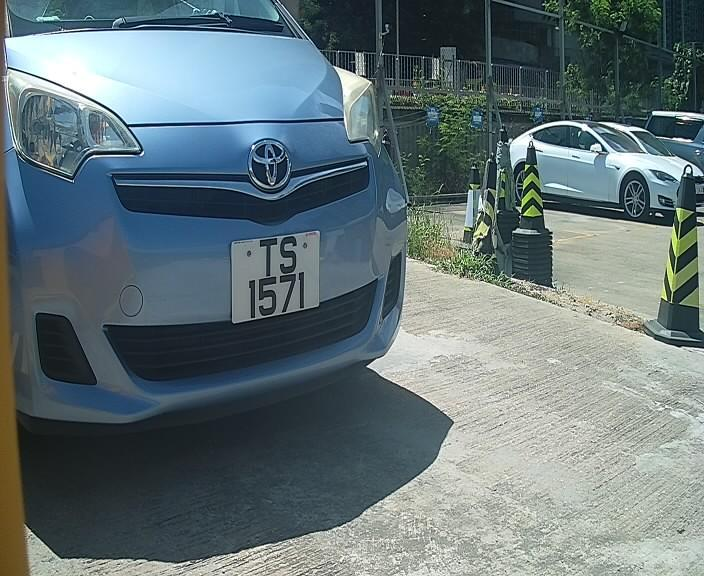privatecar: (7, 13, 431, 458)
